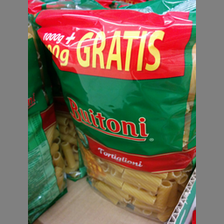pasta: (35, 1, 195, 222)
